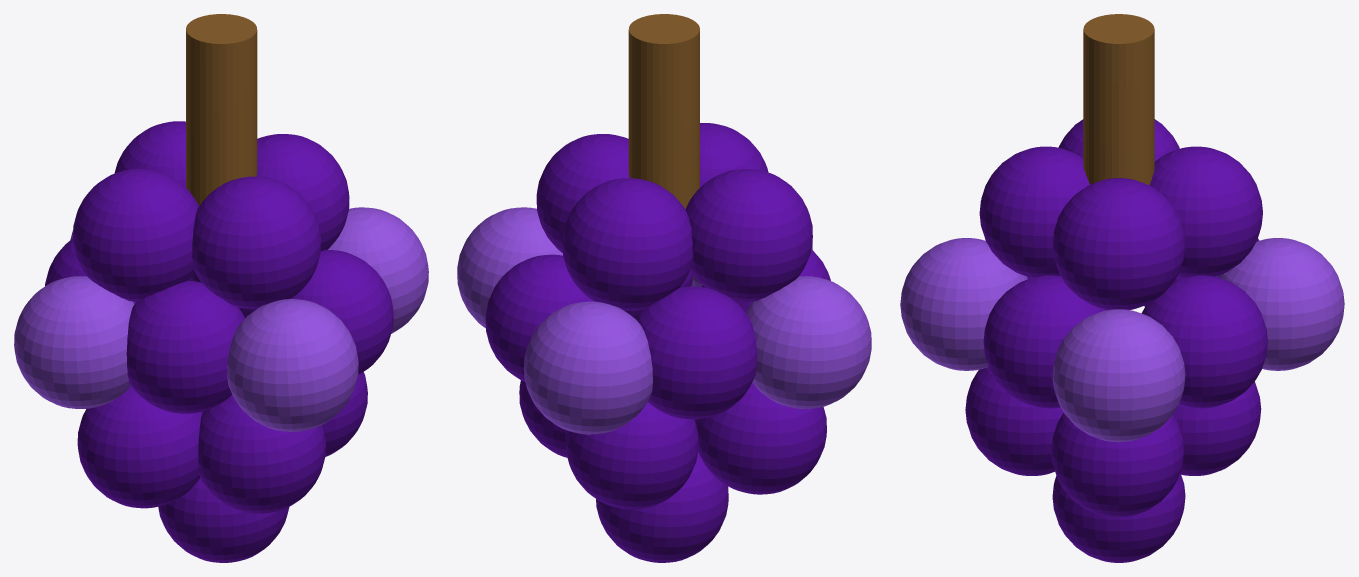
The model's file is traube.glb.
3 views of the same model, side by side, from view 1: azimuth 30°, elevation 25°; view 2: azimuth 150°, elevation 25°; view 3: azimuth 270°, elevation 25° (orthographic).
Visible parts, largest first — view 1: Traube_03, Sphere.015, Sphere.017, Traube_02, Cylinder, Sphere.012, Sphere.007, Sphere.004, Sphere.013, Sphere.008, Traube_04, Sphere.014 (+3 smaller); view 2: Traube_01, Sphere.016, Sphere.017, Traube_02, Cylinder, Sphere.010, Sphere.007, Sphere.005, Sphere.008, Sphere.011, Traube_04, Sphere.014 (+3 smaller); view 3: Traube_04, Sphere.014, Cylinder, Sphere.011, Traube_03, Traube_01, Sphere.016, Sphere.015, Sphere.006, Sphere.013, Sphere.004, Sphere.008 (+2 smaller).
Part boxes in pixels (bbox=[...]): Traube_03: bbox=[227, 299, 358, 431]; Sphere.015: bbox=[192, 176, 321, 309]; Sphere.017: bbox=[73, 169, 198, 301]; Traube_02: bbox=[14, 276, 134, 408]; Cylinder: bbox=[186, 14, 257, 205]; Sphere.012: bbox=[126, 281, 244, 413]; Sphere.007: bbox=[77, 386, 202, 508]; Sphere.004: bbox=[198, 395, 325, 513]; Sphere.013: bbox=[291, 249, 393, 374]; Sphere.008: bbox=[158, 478, 289, 562]; Traube_04: bbox=[328, 207, 428, 333]; Sphere.014: bbox=[256, 134, 349, 251]; Traube_01: bbox=[524, 301, 652, 434]; Sphere.016: bbox=[562, 178, 692, 310]; Sphere.017: bbox=[685, 169, 812, 301]; Traube_02: bbox=[746, 276, 871, 408]; Cylinder: bbox=[628, 14, 699, 209]; Sphere.010: bbox=[635, 286, 757, 419]; Sphere.007: bbox=[694, 382, 826, 494]; Sphere.005: bbox=[566, 402, 698, 509]; Sphere.008: bbox=[596, 451, 728, 562]; Sphere.011: bbox=[485, 254, 593, 382]; Traube_04: bbox=[457, 207, 562, 328]; Sphere.014: bbox=[536, 134, 629, 252]; Traube_04: bbox=[1052, 309, 1185, 442]; Sphere.014: bbox=[1052, 178, 1185, 309]; Cylinder: bbox=[1083, 14, 1154, 185]; Sphere.011: bbox=[1141, 275, 1267, 408]; Traube_03: bbox=[900, 238, 1027, 370]; Traube_01: bbox=[1218, 238, 1344, 370]; Sphere.016: bbox=[1149, 146, 1262, 277]; Sphere.015: bbox=[979, 146, 1089, 277]; Sphere.006: bbox=[1051, 412, 1184, 517]; Sphere.013: bbox=[983, 275, 1107, 408]; Sphere.004: bbox=[965, 367, 1063, 475]; Sphere.008: bbox=[1052, 474, 1185, 562].
Bounding box in the file's own units: 6.87 × 8.73 × 6.68.
Materials: 18 (18 with a texture image).
